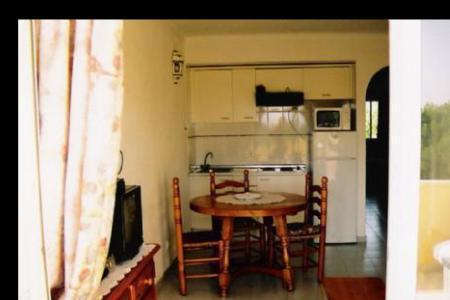Electrodomestico: (311, 133, 356, 241)
